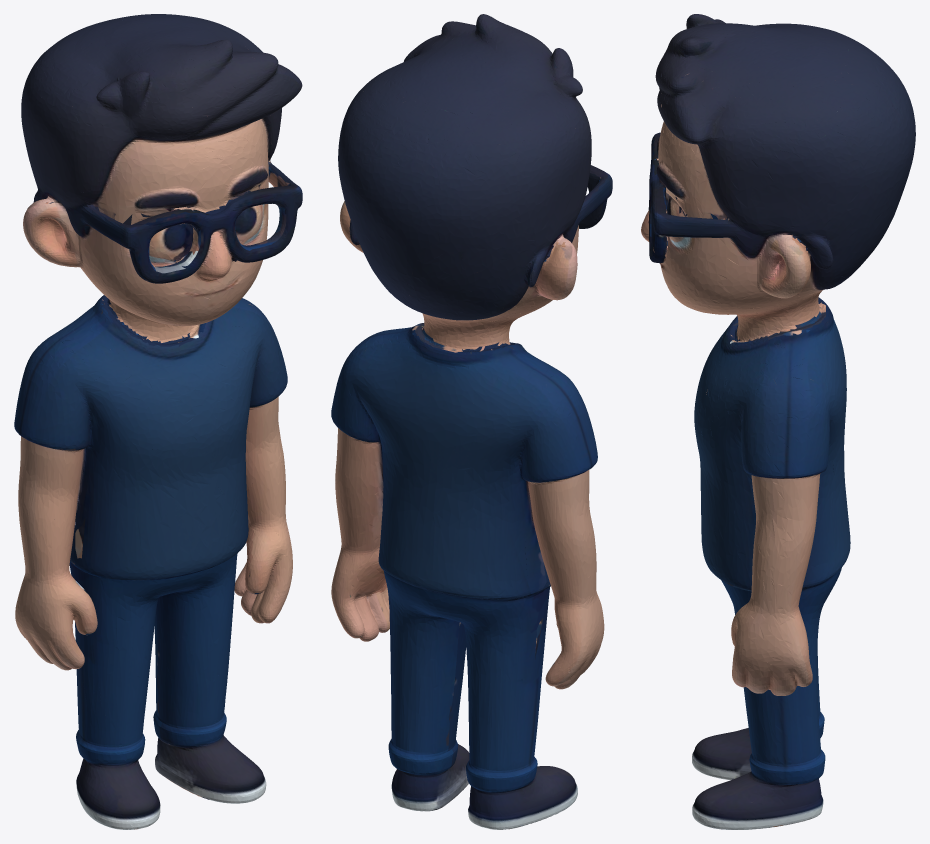
3 views of the same model, side by side, from view 1: azimuth 30°, elevation 25°; view 2: azimuth 150°, elevation 25°; view 3: azimuth 270°, elevation 25° (orthographic). The views are drawn at different scales.
Visible parts, largest first — view 1: world; view 2: world; view 3: world.
Boxes of the visible parts, x1=… form: world: x1=14, y1=14, x2=302, y2=829; world: x1=331, y1=14, x2=612, y2=829; world: x1=641, y1=14, x2=915, y2=829.
Bounding box in the file's own units: 0.7088 × 1.99 × 0.6482.
Materials: 1 (1 with a texture image).
